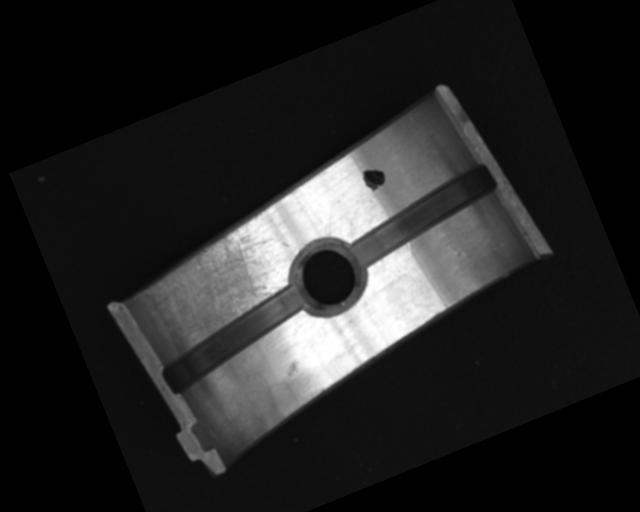blot: (360, 163, 389, 193)
bruise: (282, 358, 303, 379)
gap: (148, 279, 326, 399), (338, 160, 509, 271)
hole: (285, 232, 371, 322)
nick: (390, 240, 431, 303), (317, 203, 343, 239)
scratch: (117, 205, 302, 363)
